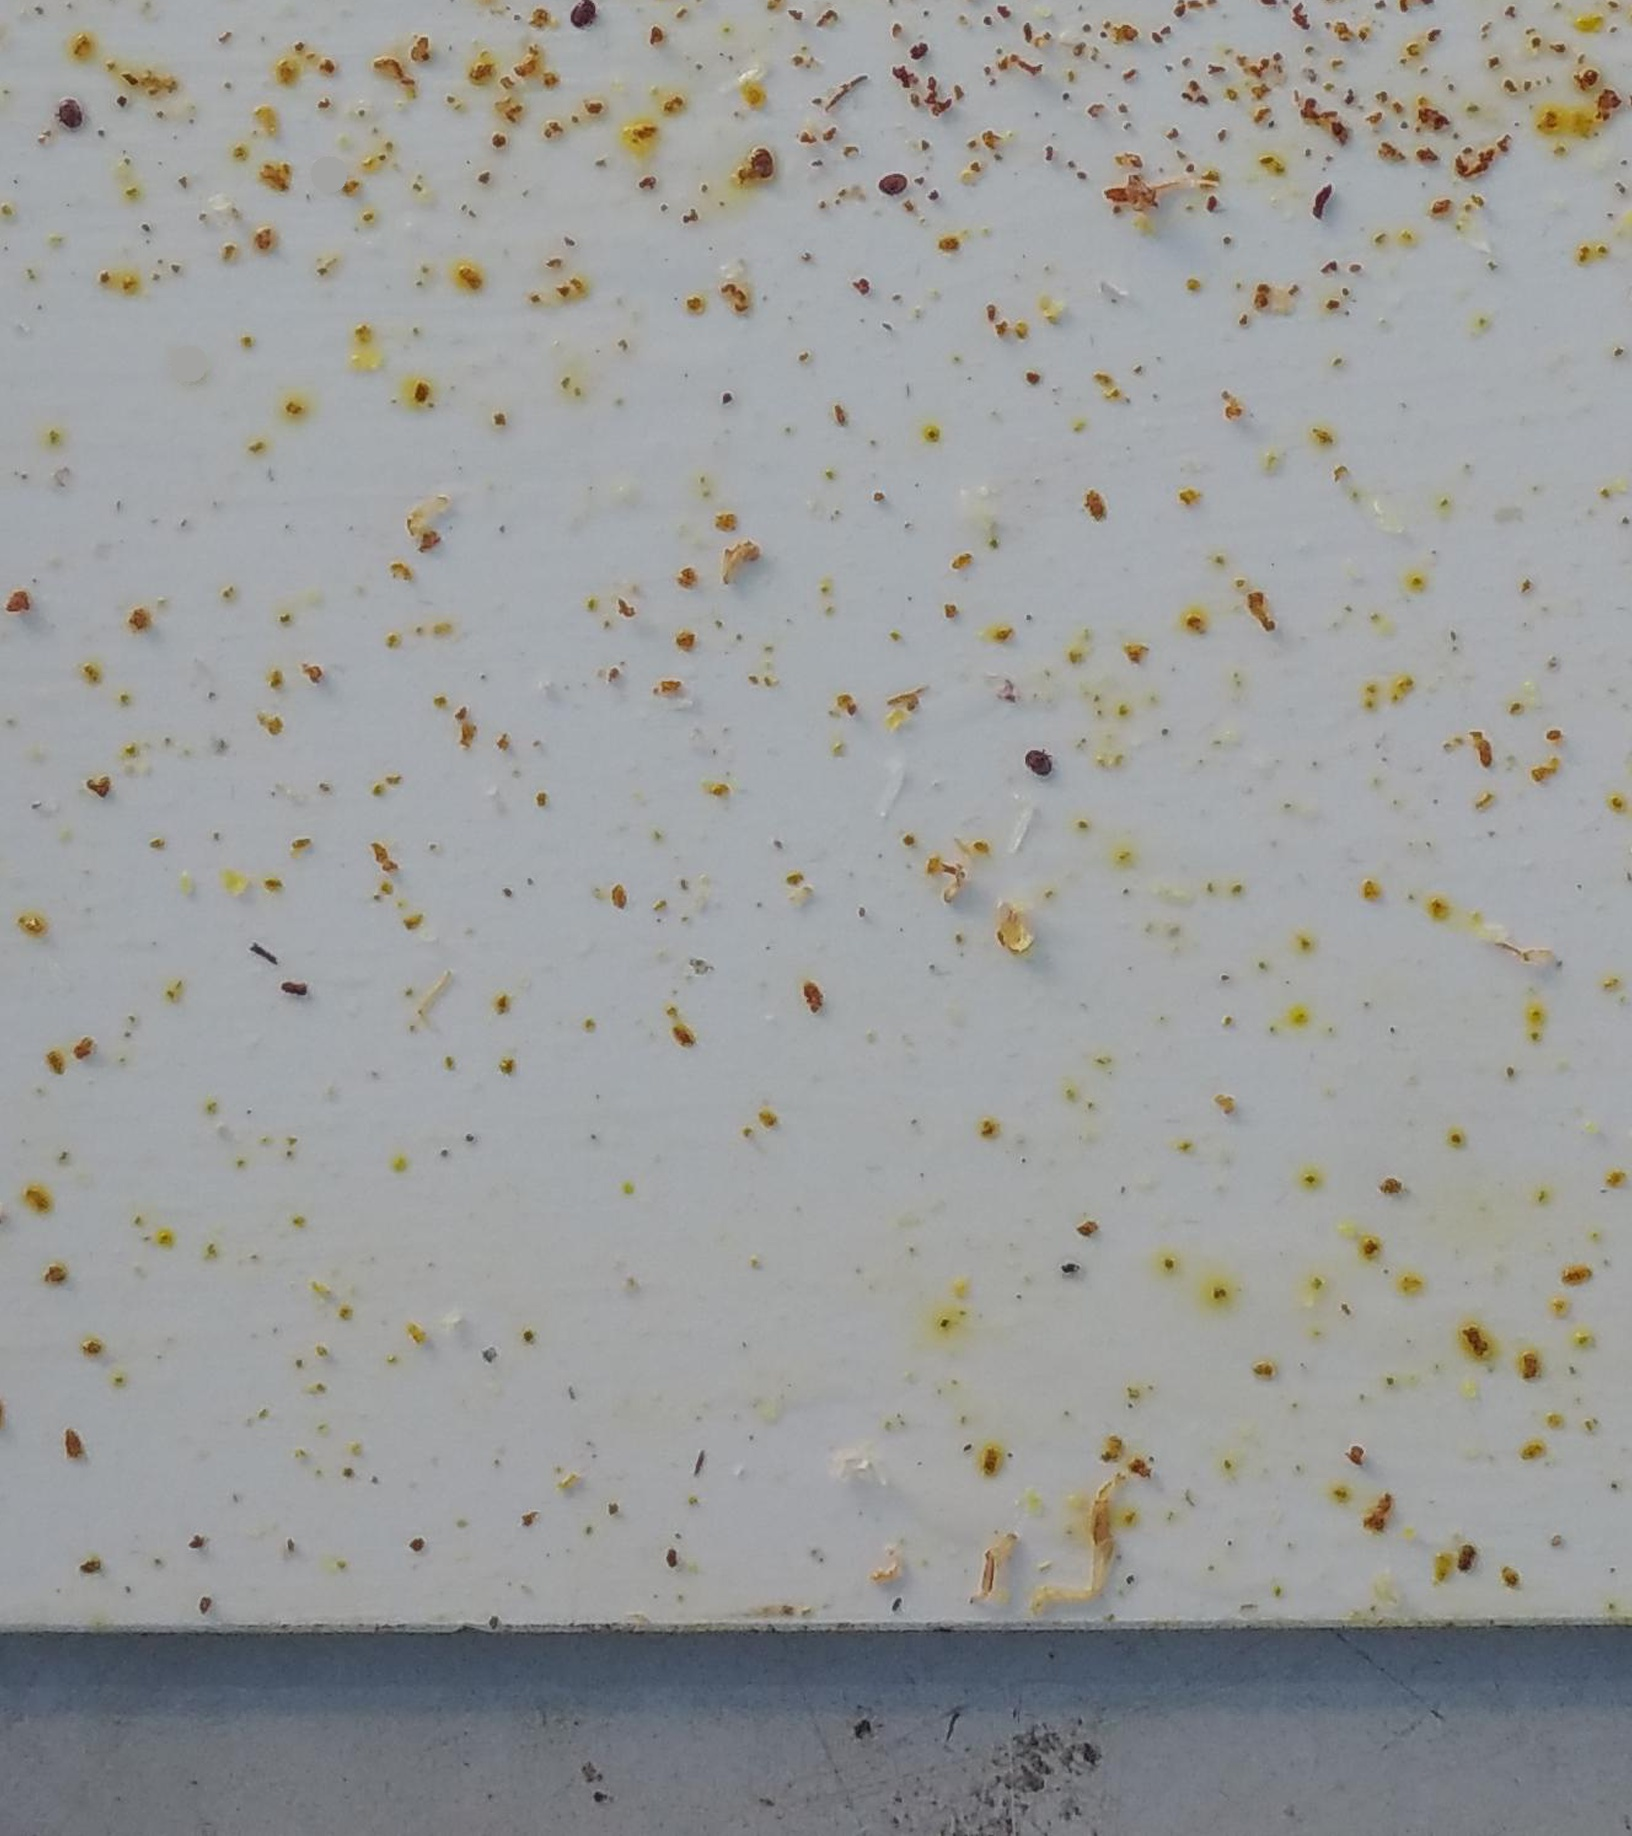Varroa: (1027, 748, 1052, 776), (58, 99, 83, 128), (750, 148, 775, 175), (572, 2, 597, 27), (884, 168, 906, 192)
